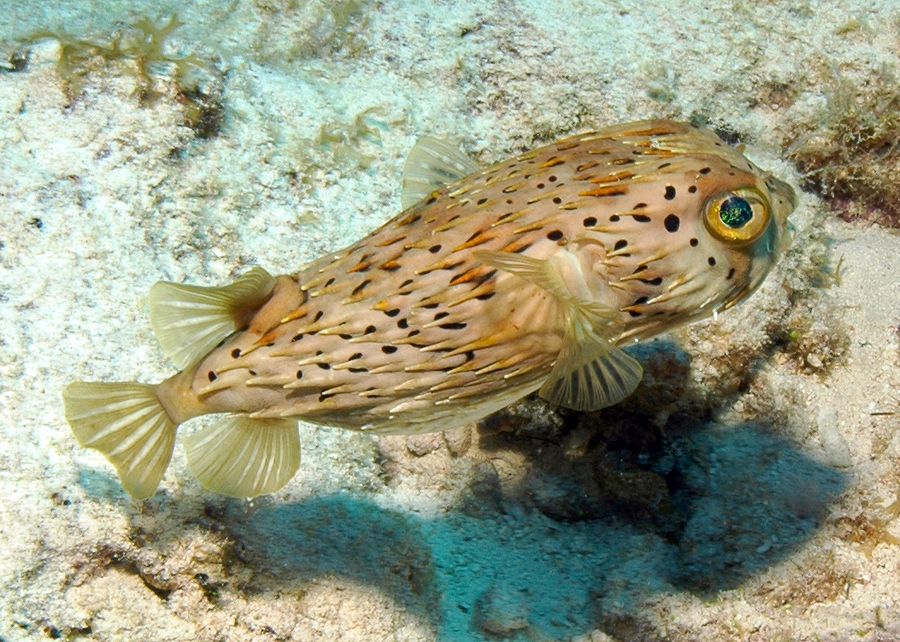Diodon_holocanthus: (66, 103, 813, 520)
